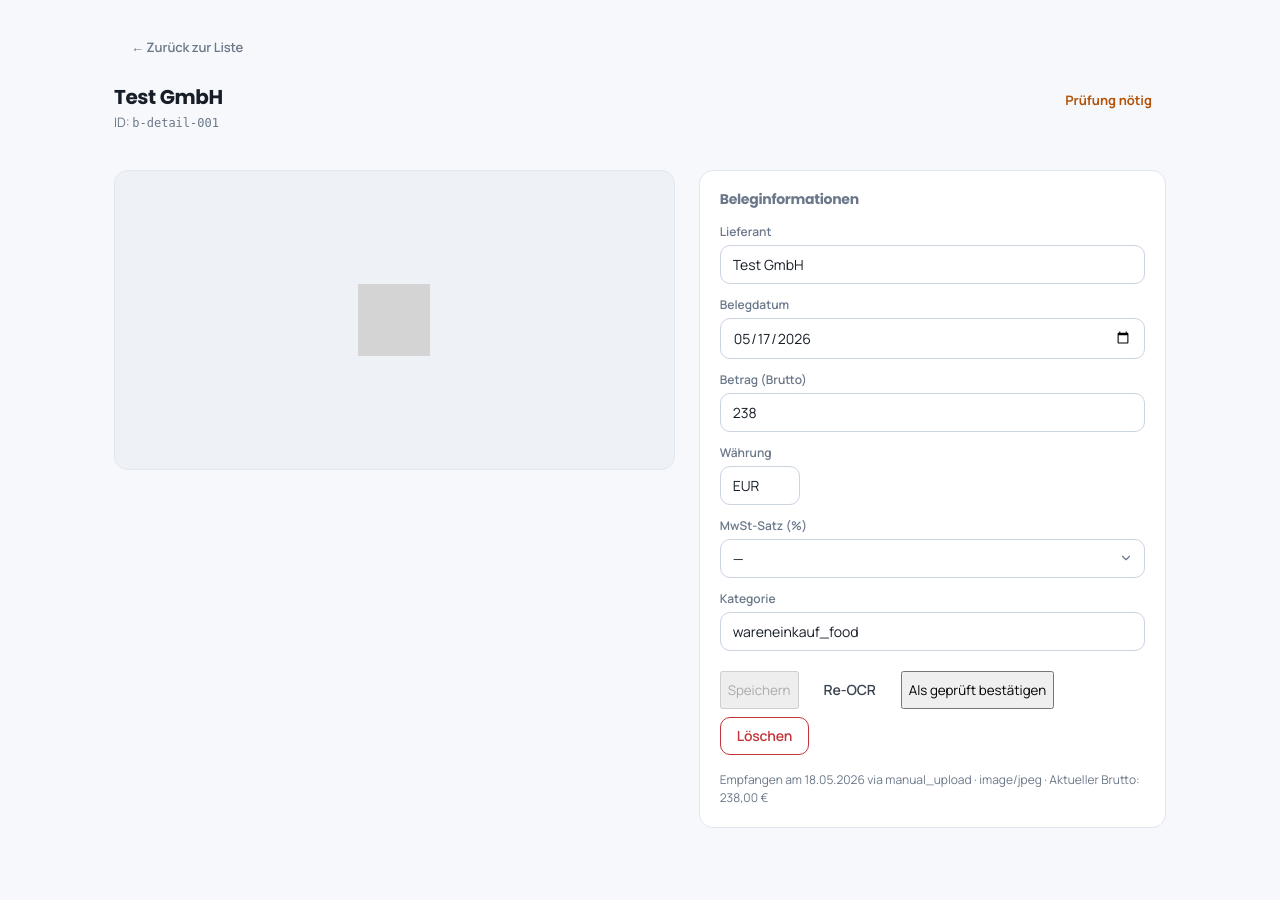
BelegeDetailPage › T078: Bestätigen ruft POST /confirm-review + zeigt Toast
Click the button with test id "btn-confirm-review". click: x=977, y=690
box: [901,671,1054,709]
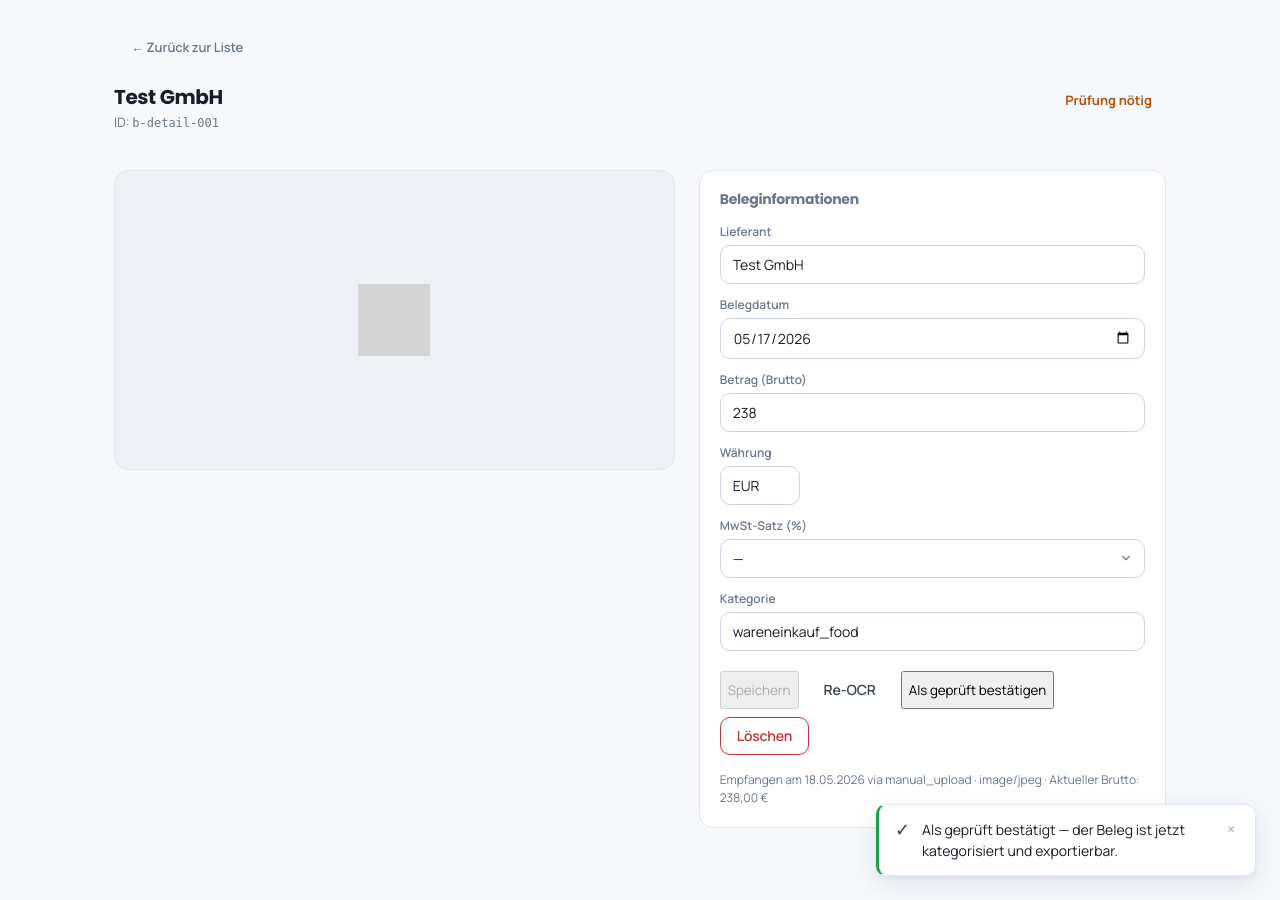
Expected: the text "Als geprüft bestätigt" is shown, [922,820,1185,860]
